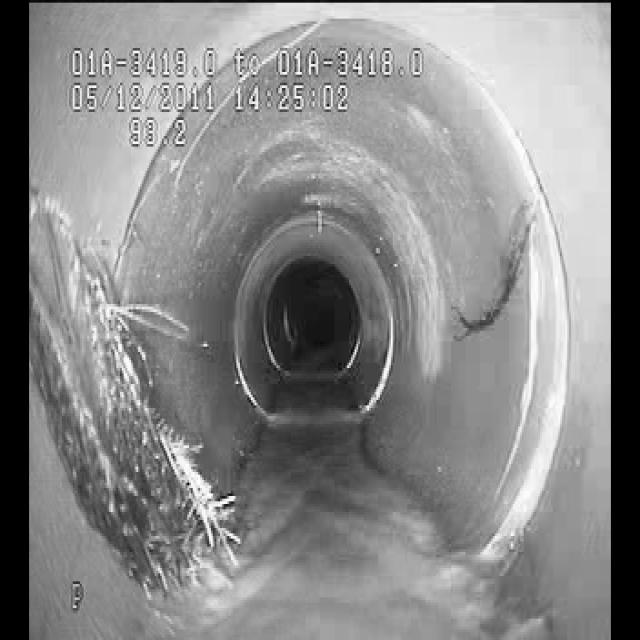Fracture: (435, 185, 554, 358)
